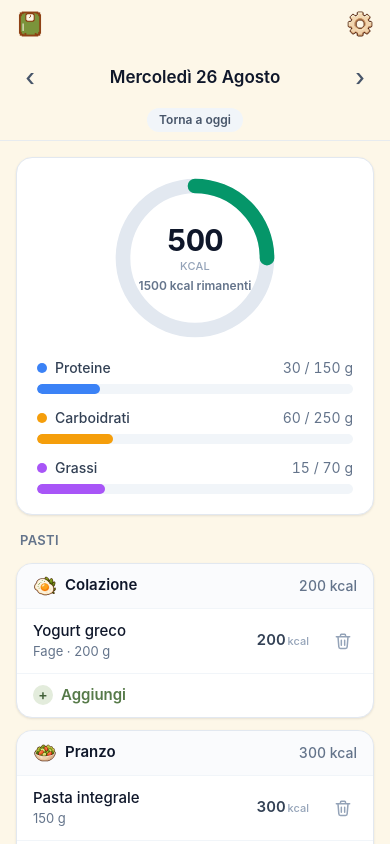
Test: DayPage › opens the edit sheet when a food row's name is tapped
Click the button with aria-label "modifica yogurt greco" at (139, 640), box [33,620,244,662]
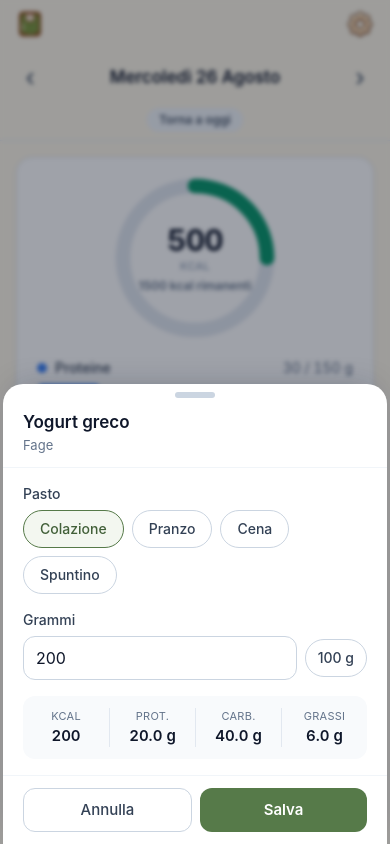
Now the dialog named "modifica yogurt greco" is shown
